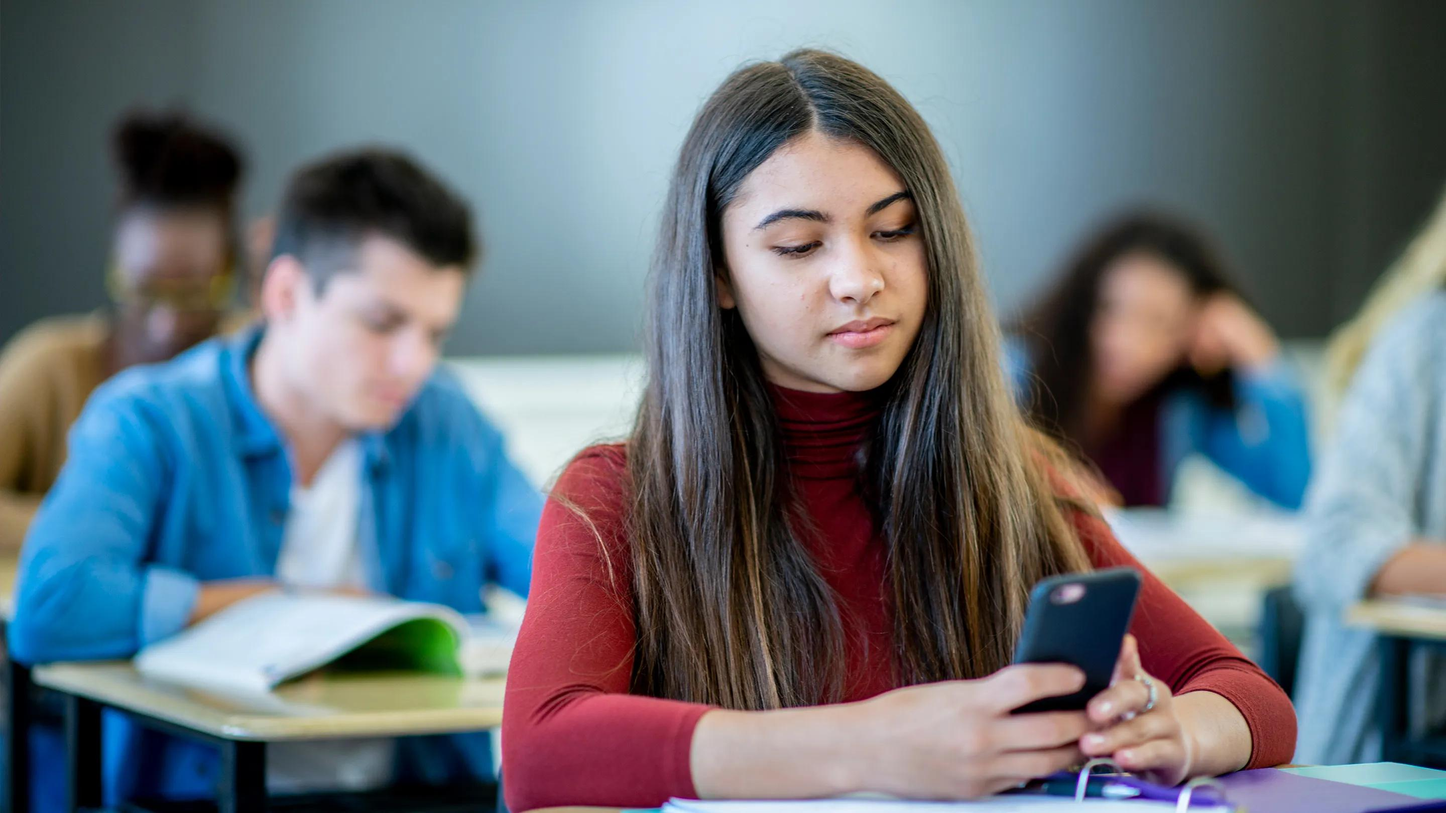phone: (515, 53, 1294, 776)
study: (1, 142, 534, 674)
